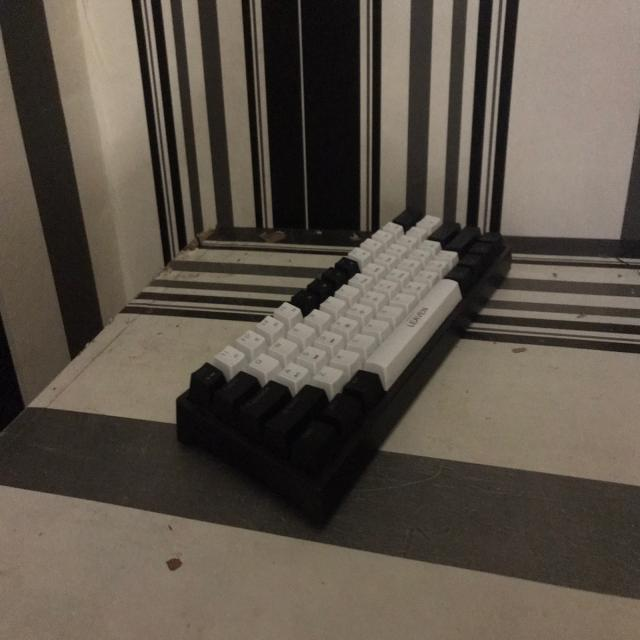-mouse-: (177, 199, 515, 531)
